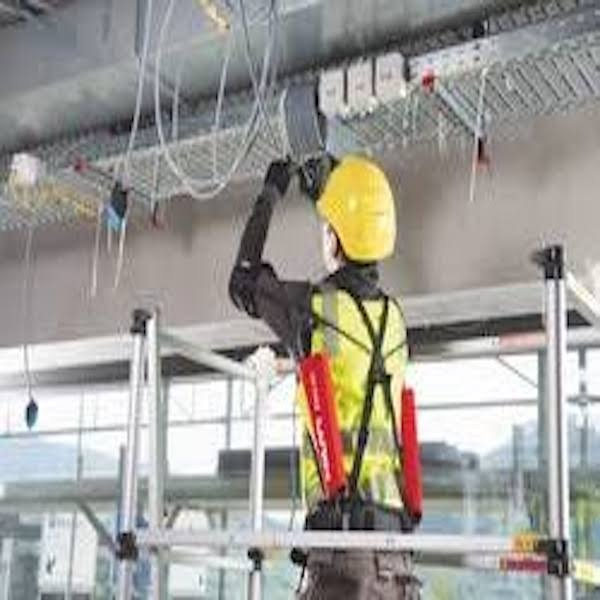helmet: (325, 154, 397, 260)
vest: (296, 291, 414, 516)
